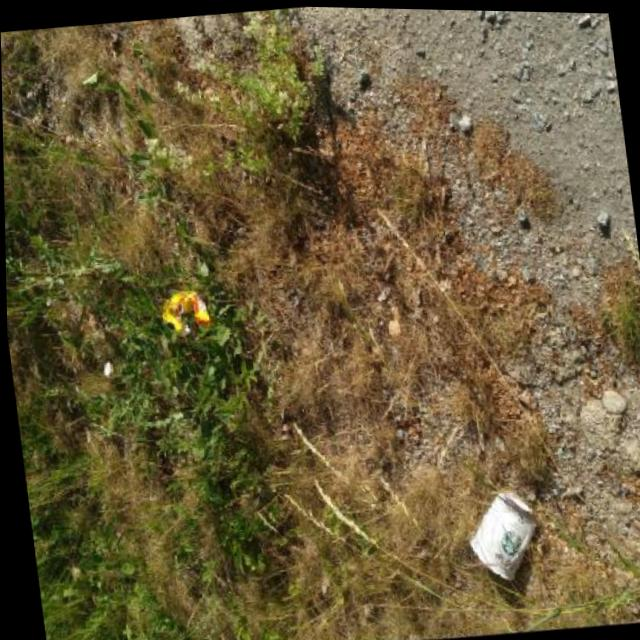cardboard: (463, 489, 543, 585)
plastic: (158, 289, 213, 341)
